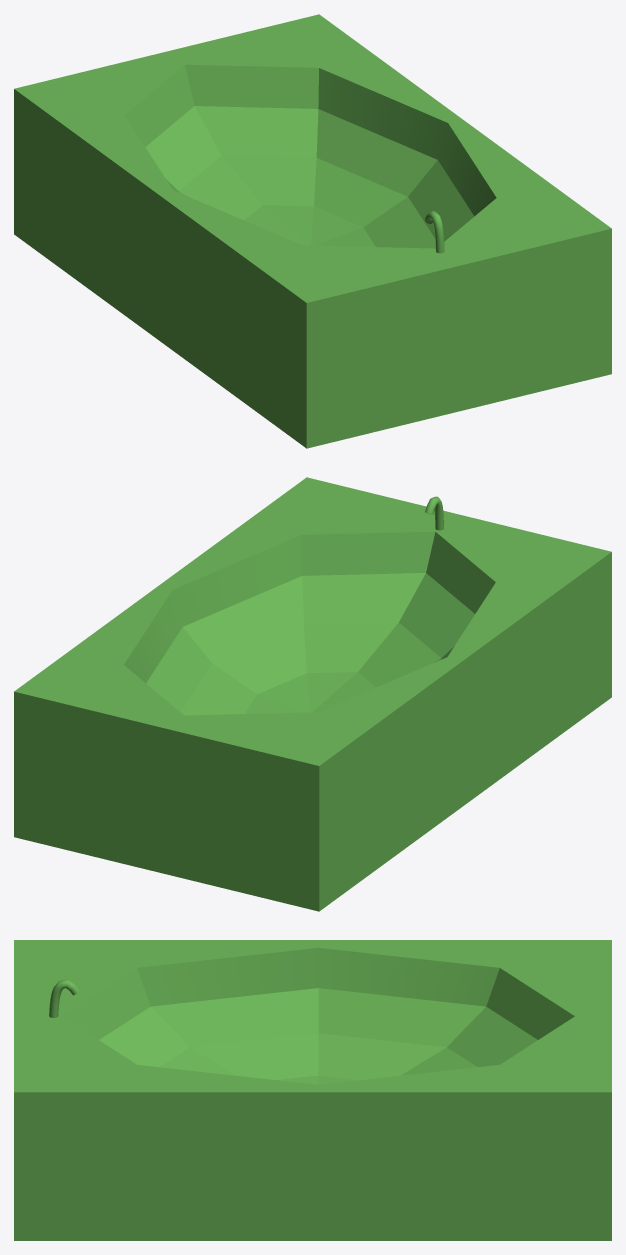
File: masterbath.fbx
The picture shows the model from 3 angles, top to bottom: view 1: azimuth 30°, elevation 25°; view 2: azimuth 150°, elevation 25°; view 3: azimuth 270°, elevation 25°; orthographic projection. The views are drawn at different scales.
Parts seen in each view (by area): view 1: Bath; view 2: Bath; view 3: Bath.
Part boxes in pixels (left/top/right/bottom): Bath: left=14, top=14, right=611, bottom=448; Bath: left=14, top=477, right=611, bottom=911; Bath: left=14, top=940, right=611, bottom=1240.
Size of the model in its own units: 195 by 110 by 323.
